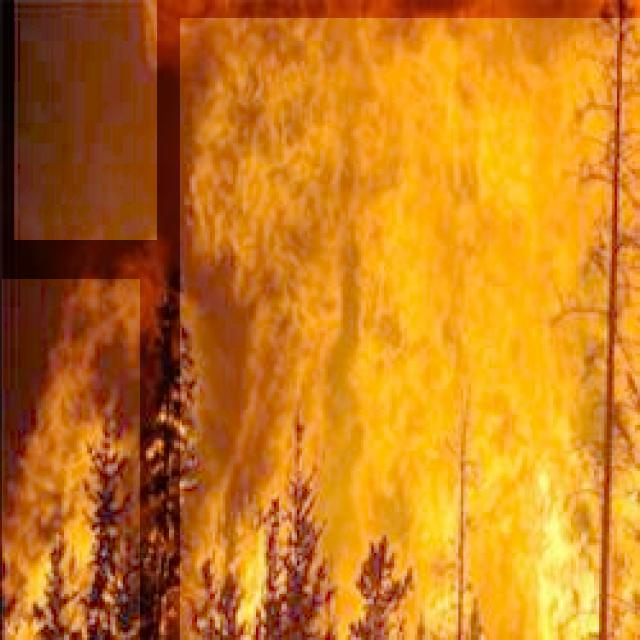Fire: (180, 18, 640, 640), (2, 279, 140, 640)
Smoke: (14, 0, 157, 240)
